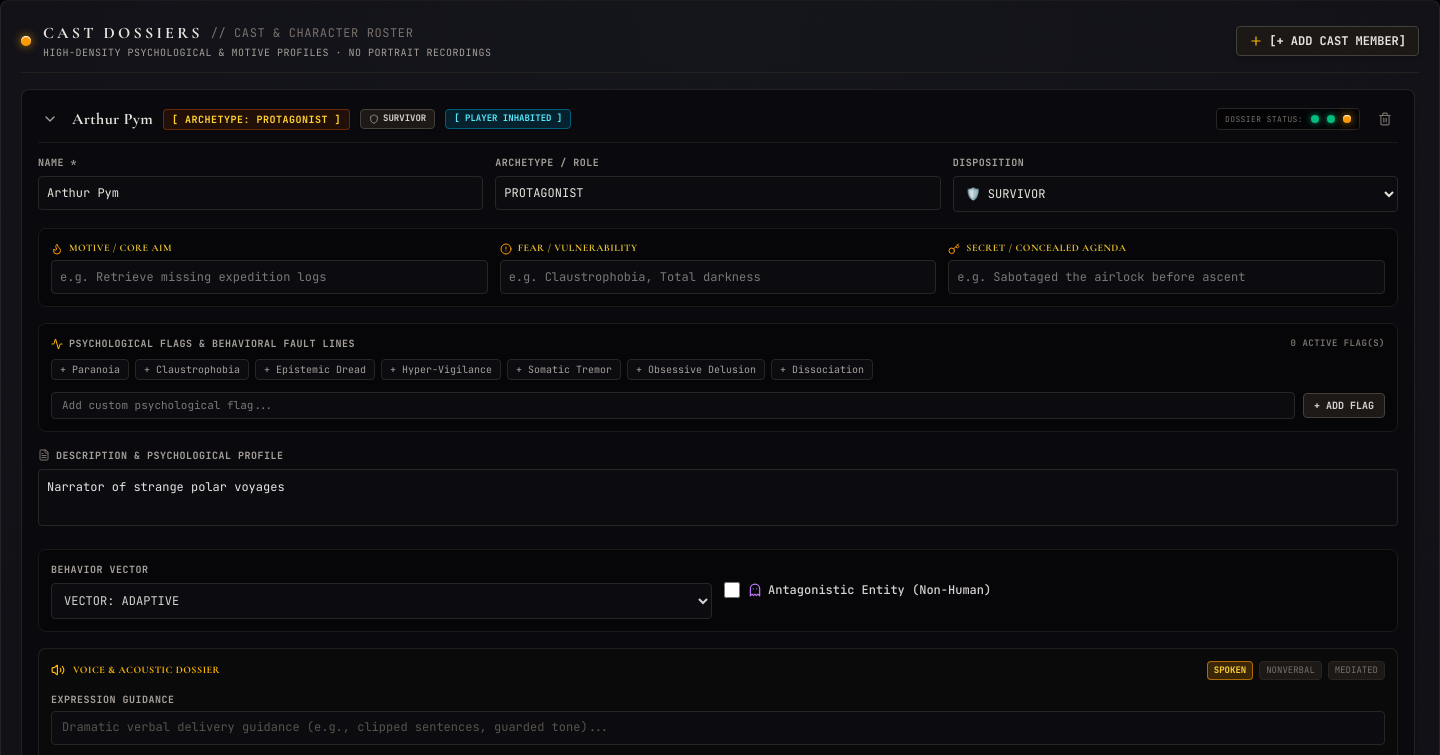
Test: CharacterAuthoringPanel Component › manual character placement defaults to OFFSTAGE and never nodes[0]
Click the button with id "add-cast-member-btn" at (1328, 40), box [1236,26,1419,56]
(page scrolled)
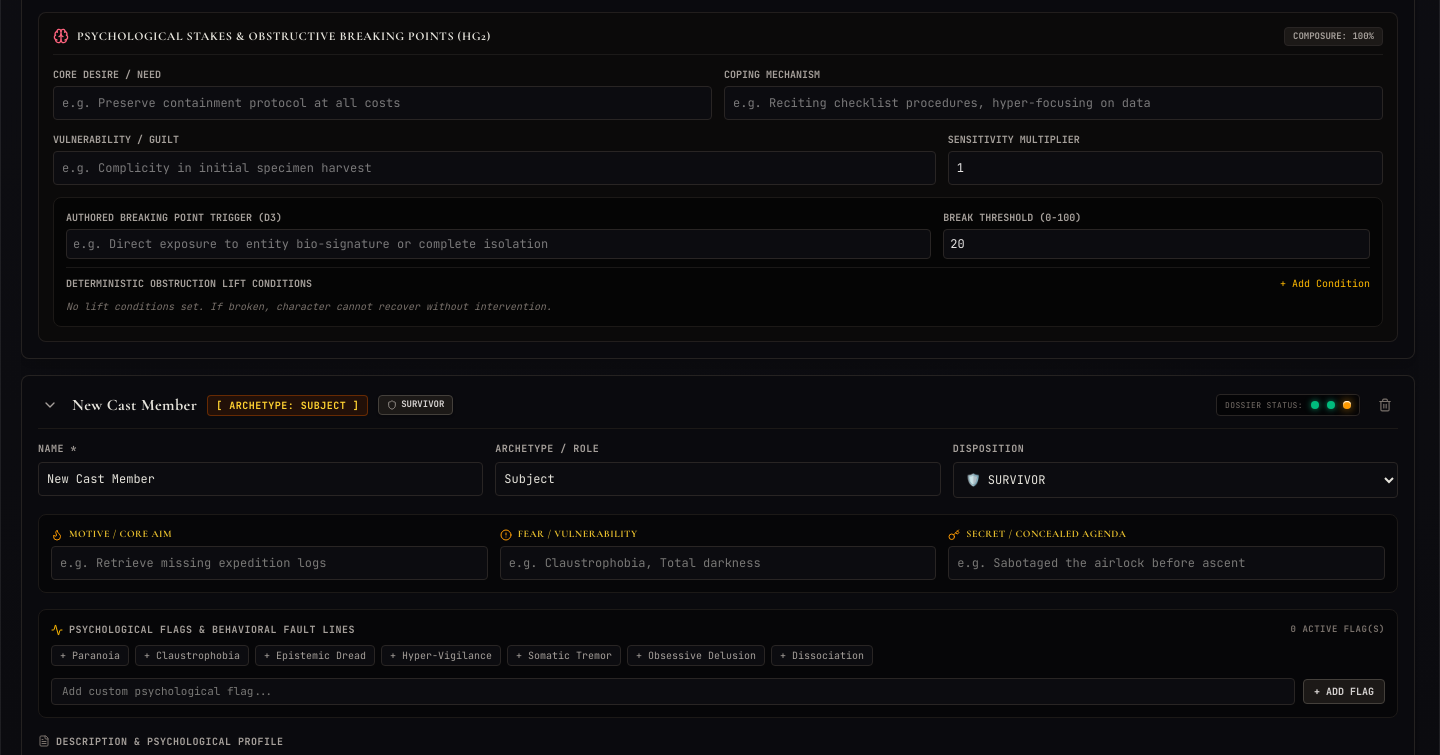
Expected: the text "New Cast Member" is shown, [72,393,197,417]
